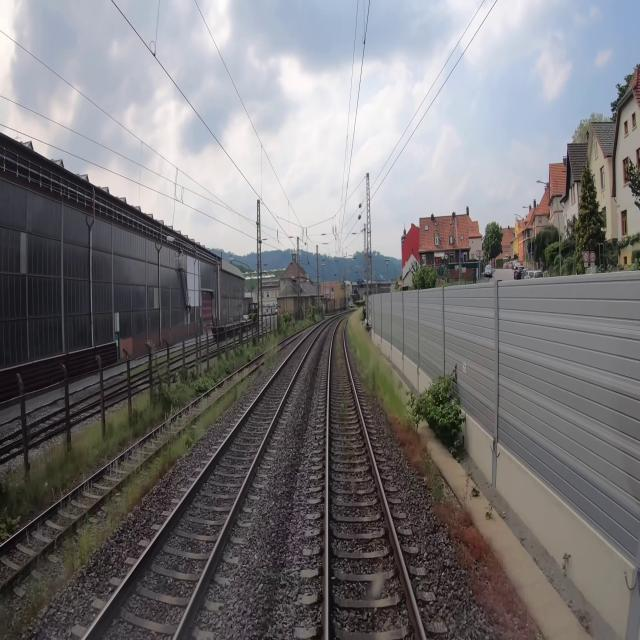Plant: (0, 345, 285, 639), (346, 308, 545, 639), (335, 314, 349, 367), (339, 400, 348, 422)
